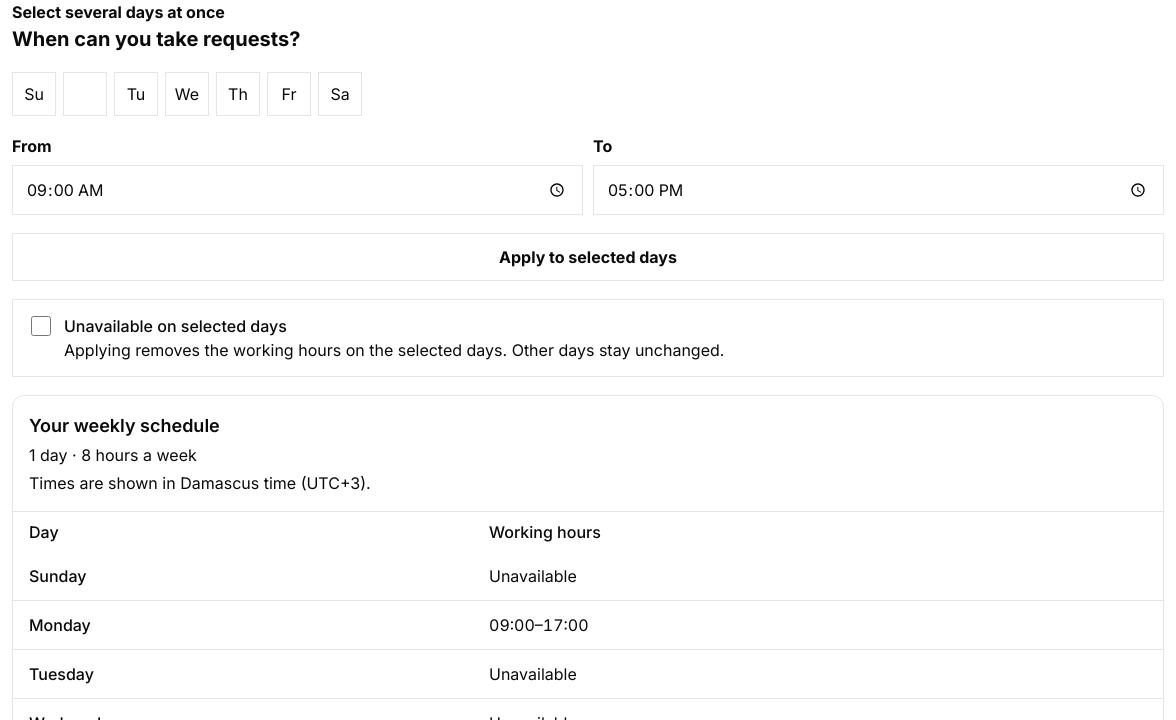
Test: working hours — the applied week belongs to the provider until it is acknowledged › a refused stale write is not shown as saved, and the week it would have replaced is not lost on the server
The image size is (1176, 720).
Expected: the row with test id "availability-summary-day-1" is shown, [13, 600, 1163, 650]
What coordinates should you click on to do the following:
click the button "Tu"
I would click on:
 (136, 94)
Its box is [114, 72, 158, 116].
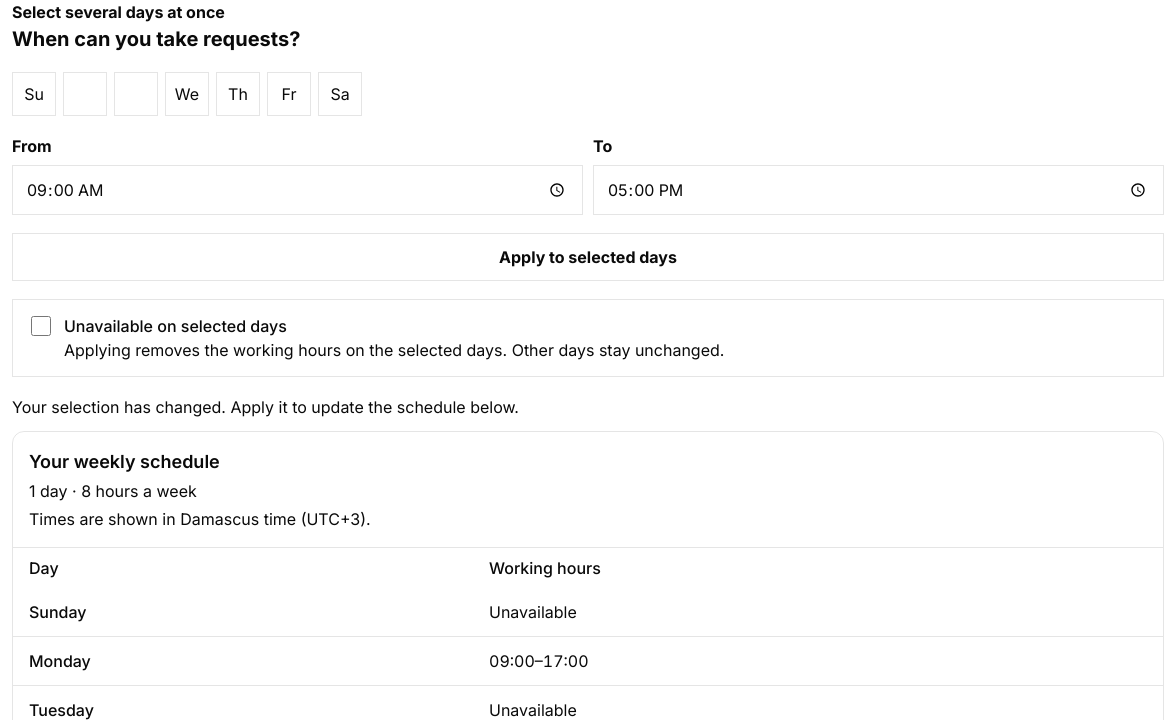
What coordinates should you click on to do the following:
click the button with test id "apply-to-selected"
I would click on:
 (588, 257)
Its box is [12, 233, 1164, 281].
(page scrolled)
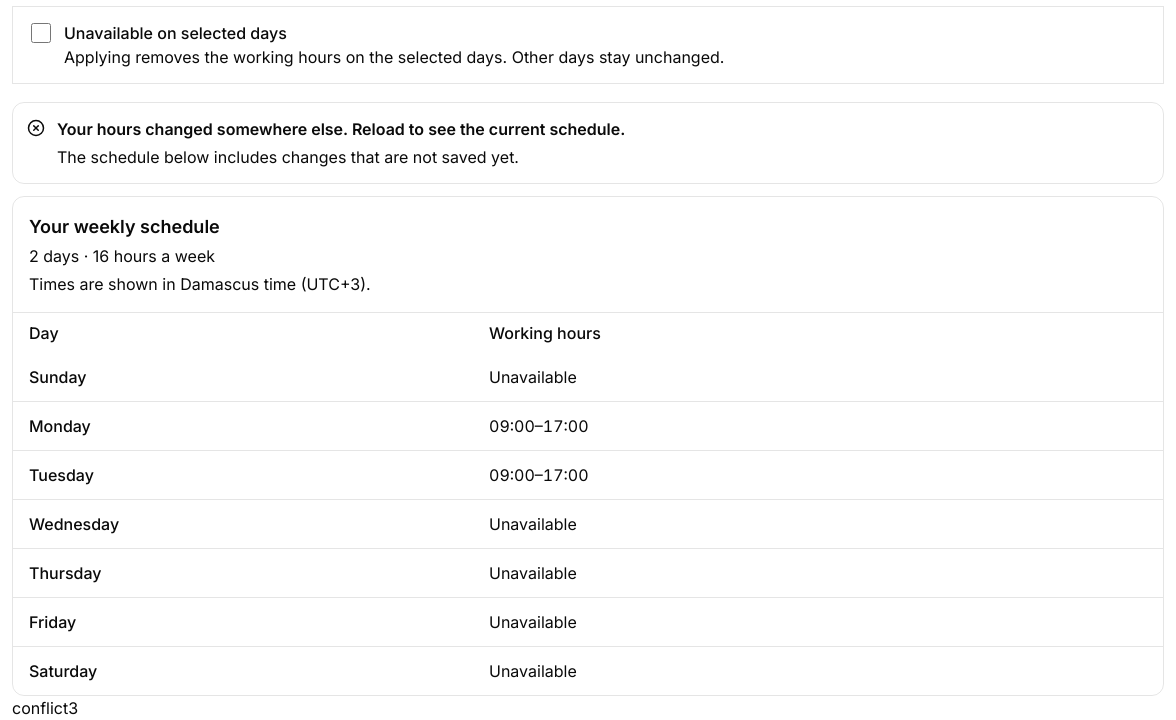
Expected: the element with test id "save-state" does not show "saved"
Expected: the text with test id "save-state" reads "conflict", [12, 698, 68, 718]
